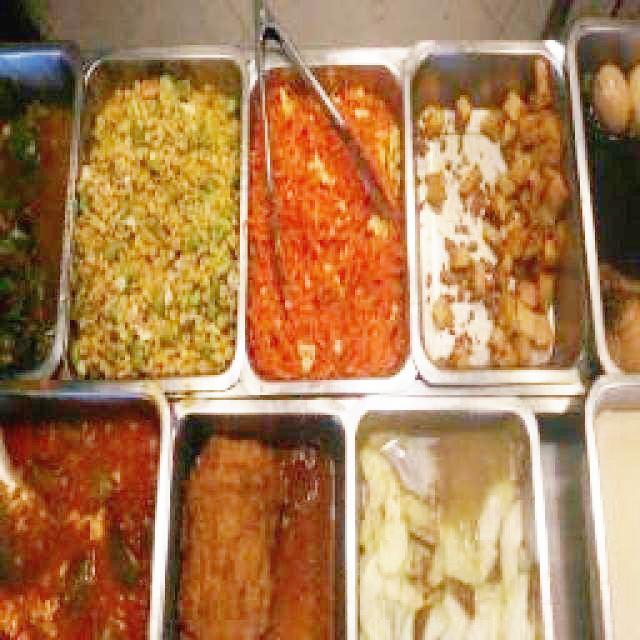carrot_eggs: (247, 64, 409, 383)
